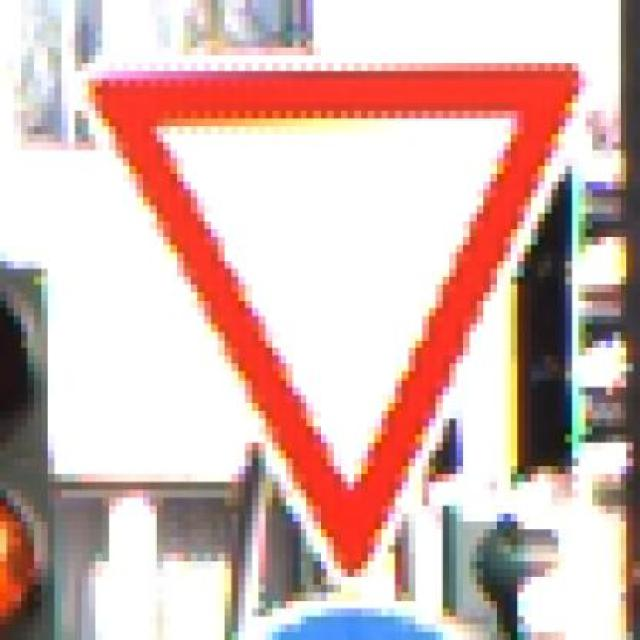Give Way: (76, 55, 606, 592)
